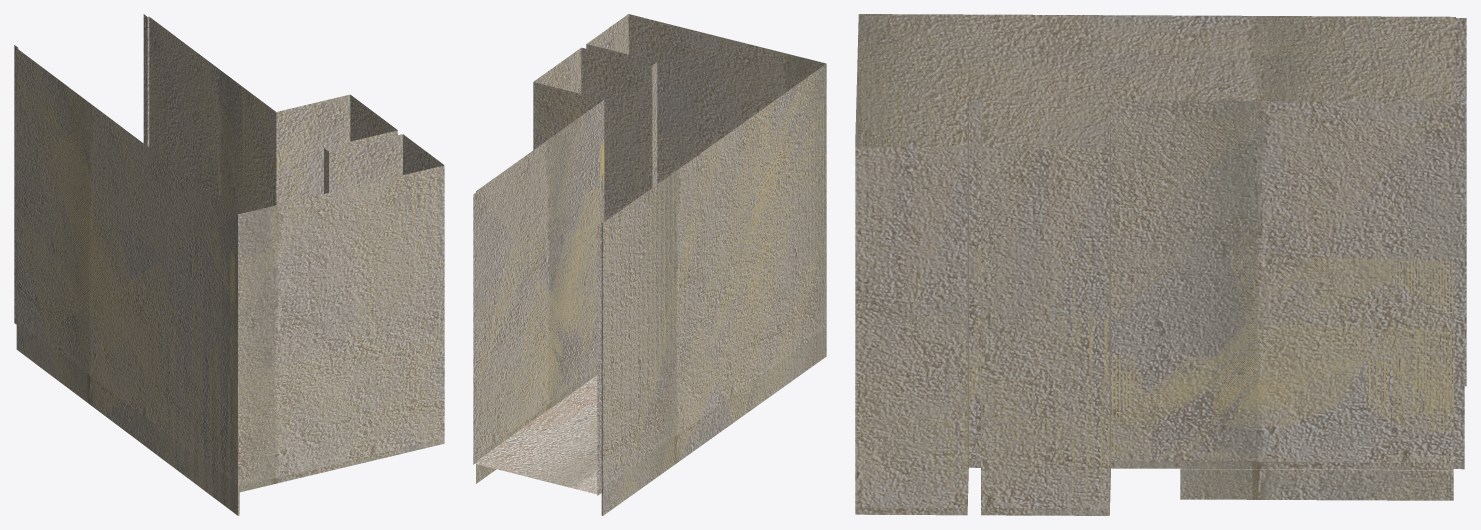
File: CUA003.obj
3 views of the same model, side by side, from view 1: azimuth 30°, elevation 25°; view 2: azimuth 150°, elevation 25°; view 3: azimuth 270°, elevation 25° (orthographic). The views are drawn at different scales.
Visible parts, largest first — view 1: Mesh1 CUA003 Model; view 2: Mesh1 CUA003 Model; view 3: Mesh1 CUA003 Model.
Part boxes in pixels (x1,y1,x2,y2): Mesh1 CUA003 Model: [14, 14, 444, 515]; Mesh1 CUA003 Model: [473, 14, 826, 515]; Mesh1 CUA003 Model: [855, 14, 1466, 515].
Size of the model in its own units: 2.34 by 3.25 by 4.52.
Materials: 3 (2 with a texture image).
